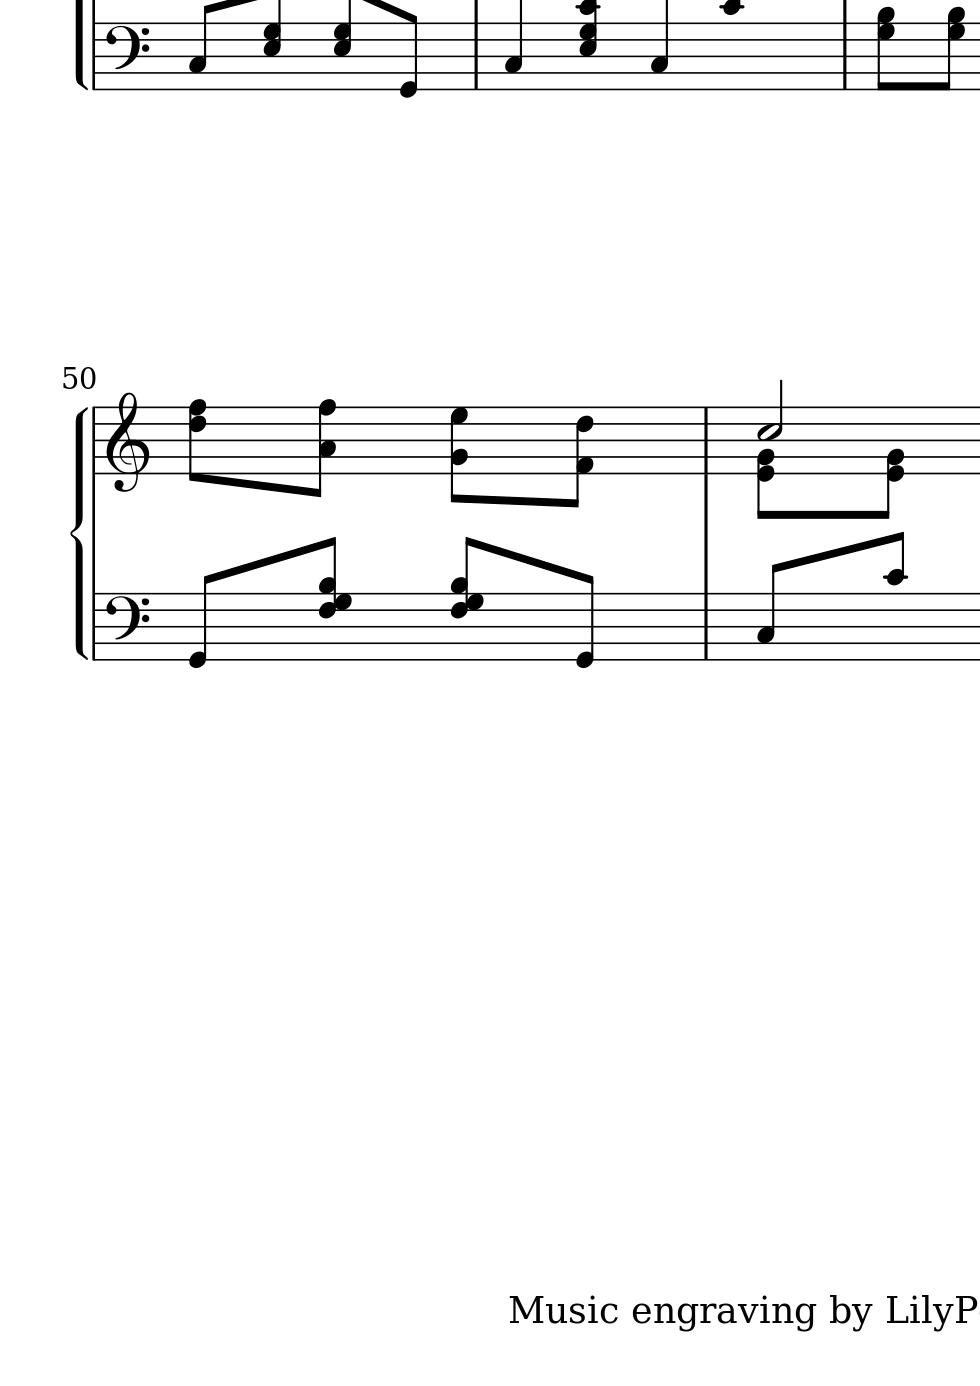0: (78, 363, 97, 392)
5: (62, 364, 77, 392)
8_0: (186, 571, 218, 671), (572, 571, 598, 672), (396, 10, 420, 101)
8_0_2: (878, 405, 905, 517)
8_10: (881, 529, 908, 662)
8_1_6: (568, 405, 595, 508)
8_2_7: (449, 405, 469, 503)
8_3: (755, 561, 785, 663), (186, 2, 215, 91), (503, 2, 527, 92)
8_3_8: (307, 398, 336, 496)
8_6_8: (188, 399, 209, 483)
8_7_9: (937, 6, 966, 91), (876, 5, 896, 93)
8_th: (450, 536, 489, 663), (317, 534, 354, 660)
Fclef: (102, 591, 157, 663), (103, 18, 152, 87)
Gclef: (103, 390, 151, 493)
Single_barline: (467, 23, 486, 90), (835, 23, 854, 89), (696, 594, 715, 660), (697, 408, 714, 473), (87, 407, 102, 475), (88, 24, 102, 90), (88, 594, 102, 660)
